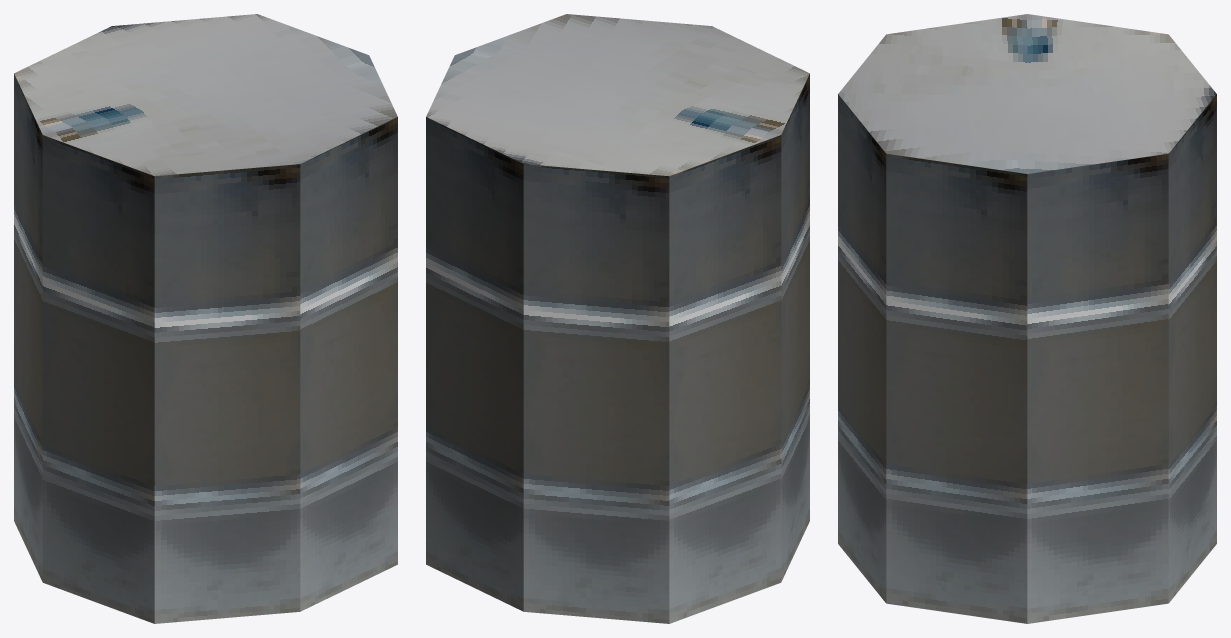
File: barell.glb
The picture shows the model from 3 angles, left to right: view 1: azimuth 30°, elevation 25°; view 2: azimuth 150°, elevation 25°; view 3: azimuth 270°, elevation 25°; orthographic projection.
Visible parts, largest first — view 1: Плоскость; view 2: Плоскость; view 3: Плоскость.
Part boxes in pixels (x1=…): Плоскость: x1=14, y1=14, x2=397, y2=623; Плоскость: x1=426, y1=14, x2=809, y2=623; Плоскость: x1=838, y1=14, x2=1216, y2=623.
Bounding box in the file's own units: 2.68 × 3.52 × 2.68.
Materials: 1 (1 with a texture image).
